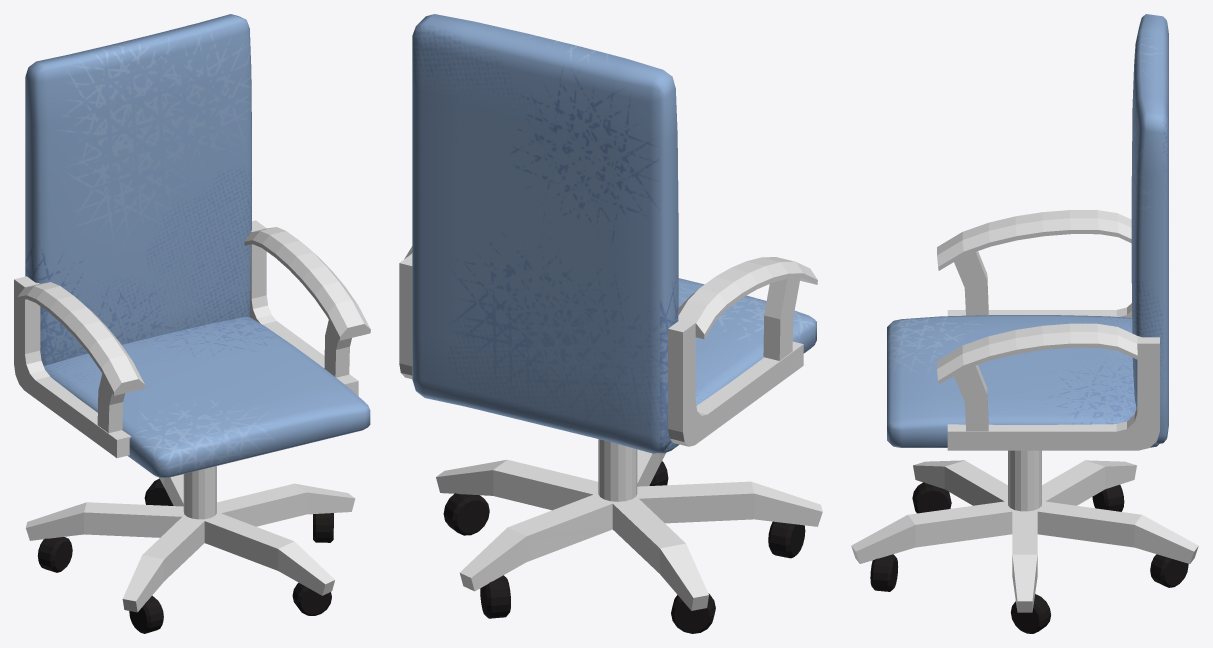
File: chair.fbx
The picture shows the model from 3 angles, left to right: view 1: azimuth 30°, elevation 25°; view 2: azimuth 150°, elevation 25°; view 3: azimuth 270°, elevation 25°; orthographic projection. The views are drawn at different scales.
Parts seen in each view (by area): view 1: Prop_OfficeChair_02; view 2: Prop_OfficeChair_02; view 3: Prop_OfficeChair_02.
Boxes of the visible parts, left/top/right/bottom form: Prop_OfficeChair_02: left=14, top=14, right=370, bottom=633; Prop_OfficeChair_02: left=399, top=14, right=822, bottom=633; Prop_OfficeChair_02: left=851, top=14, right=1198, bottom=633.
Bounding box in the file's own units: 63.56 × 106 × 66.32.
2 materials, 1 textured.
